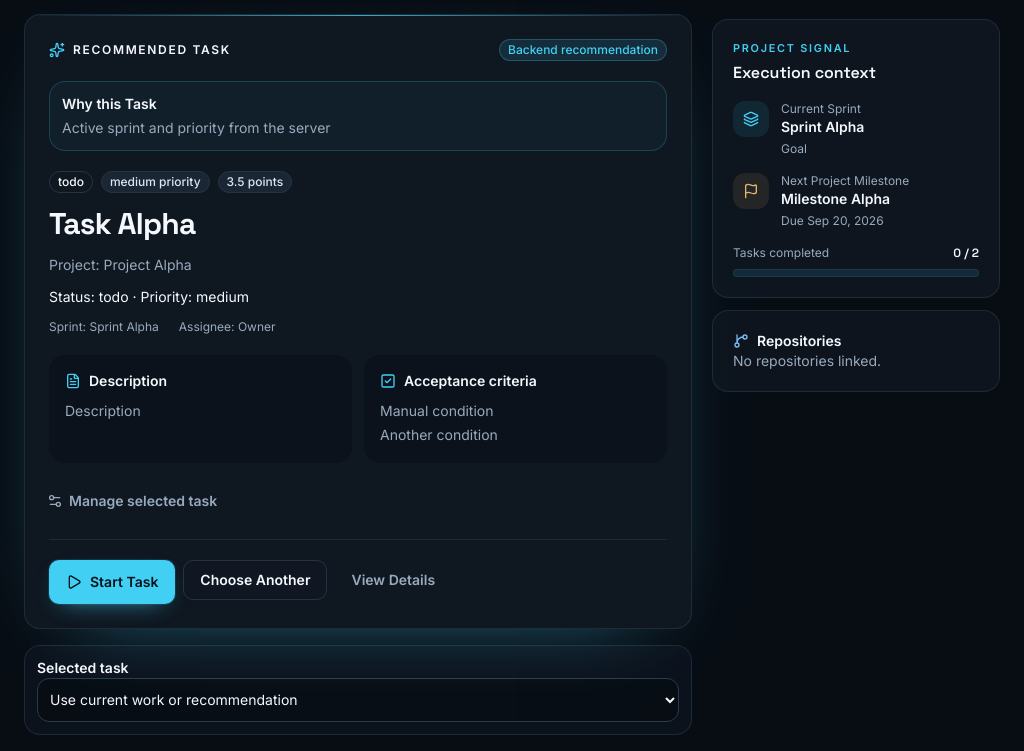
it: Focus execution (mocked HTTP/jsdom, not a live backend/browser) › retries an unknown start with the exact key (committed=true)
The width and height of the screenshot is (1024, 751).
(page scrolled)
Click the button "Start Task".
click(112, 582)  # box [49,560,175,604]
(page scrolled)
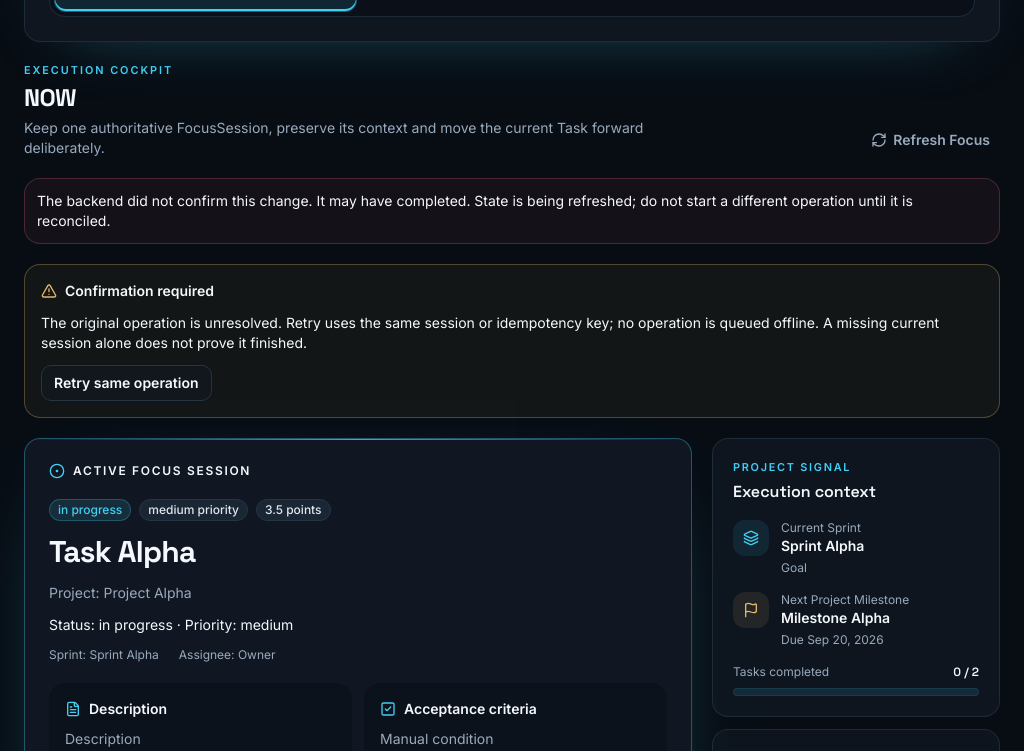
Expected: the text "Server confirms" is not shown
Expected: the text "original operation is unresolved" is shown, [41,314,939,351]
Expected: the button "Retry same operation" is enabled
Click the button "Retry same operation".
click(126, 383)  # box [41,365,212,401]
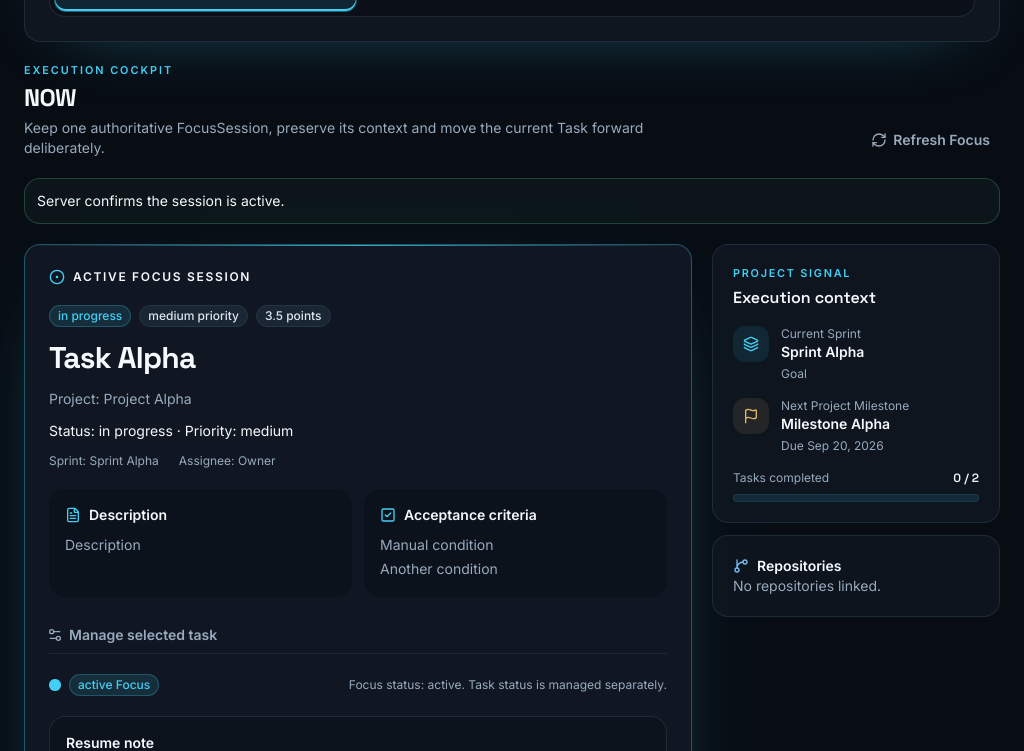
Expected: the text "Server confirms the session is active." is shown, [24,178,1000,224]
